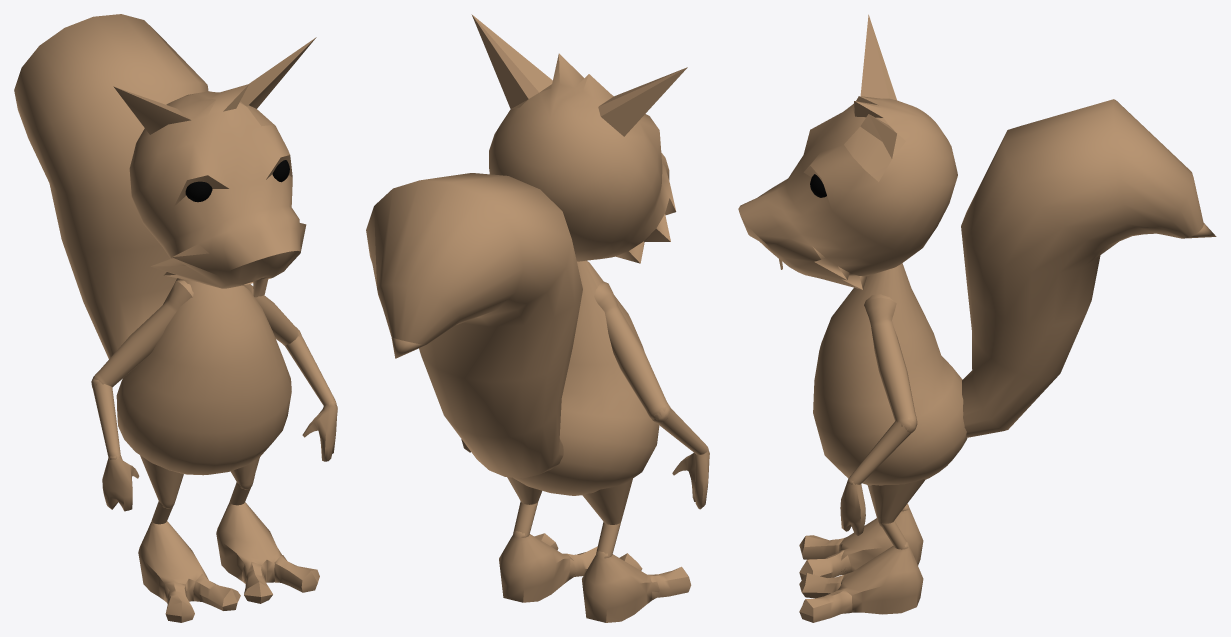
File: Squirrel_Fillet.gltf
The picture shows the model from 3 angles, left to right: view 1: azimuth 30°, elevation 25°; view 2: azimuth 150°, elevation 25°; view 3: azimuth 270°, elevation 25°; orthographic projection. The views are drawn at different scales.
Parts seen in each view (by area): view 1: Tail, Head, Torso, L_Leg_Foot, R_Leg_Foot, R_Arm_Upper, R_Arm_Hand, R_Arm_Lower, L_Arm_Lower, R_Leg_Thigh, L_Arm_Hand, L_Leg_Toe2 (+6 smaller); view 2: Tail, Head, Torso, R_Leg_Foot, L_Leg_Foot, R_Arm_Upper, R_Leg_Thigh, R_Arm_Hand, R_Arm_Lower, R_Leg_Toe2, L_Leg_Shin, R_Leg_Shin (+2 smaller); view 3: Tail, Head, Torso, L_Leg_Foot, L_Arm_Upper, R_Leg_Foot, L_Leg_Thigh, L_Arm_Lower, L_Leg_Toe2, L_Arm_Hand, R_Leg_Toe1, R_Leg_Toe2 (+1 smaller).
Part boxes in pixels (<box>): Tail: <box>14,14,208,358</box>; Head: <box>113,37,316,297</box>; Torso: <box>116,278,291,475</box>; L_Leg_Foot: <box>216,502,281,583</box>; R_Leg_Foot: <box>138,521,208,601</box>; R_Arm_Upper: <box>92,280,193,387</box>; R_Arm_Hand: <box>102,455,139,511</box>; R_Arm_Lower: <box>91,375,120,459</box>; L_Arm_Lower: <box>284,330,336,405</box>; R_Leg_Thigh: <box>140,455,183,508</box>; L_Arm_Hand: <box>302,401,337,461</box>; L_Leg_Toe2: <box>274,555,319,592</box>; Tail: <box>366,173,582,478</box>; Head: <box>471,14,687,263</box>; Torso: <box>513,260,659,495</box>; R_Leg_Foot: <box>582,551,659,622</box>; L_Leg_Foot: <box>499,531,574,602</box>; R_Arm_Upper: <box>594,281,671,422</box>; R_Leg_Thigh: <box>582,478,632,524</box>; R_Arm_Hand: <box>672,447,709,509</box>; R_Arm_Lower: <box>650,405,708,454</box>; R_Leg_Toe2: <box>648,566,691,600</box>; L_Leg_Shin: <box>513,501,537,537</box>; R_Leg_Shin: <box>596,522,620,558</box>; Tail: <box>961,99,1216,437</box>; Head: <box>738,14,957,289</box>; Torso: <box>813,263,967,485</box>; L_Leg_Foot: <box>839,541,923,614</box>; L_Arm_Upper: <box>864,294,917,433</box>; R_Leg_Foot: <box>839,503,923,574</box>; L_Leg_Thigh: <box>867,479,924,526</box>; L_Arm_Lower: <box>848,417,917,484</box>; L_Leg_Toe2: <box>799,588,852,622</box>; L_Arm_Hand: <box>840,477,865,535</box>; R_Leg_Toe1: <box>799,550,850,579</box>; R_Leg_Toe2: <box>799,535,843,559</box>.
Size of the model in its own units: 0.7344 by 1.56 by 1.3.
